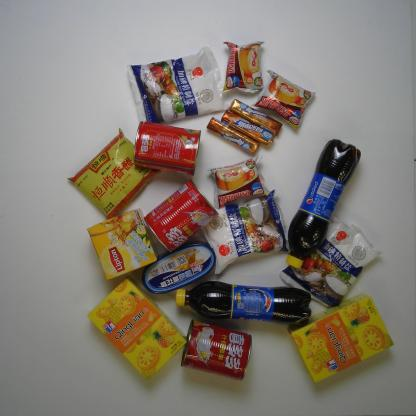Candy: (219, 107, 276, 147), (204, 116, 261, 156), (228, 97, 284, 137)
Canned Food: (142, 176, 222, 255), (177, 316, 256, 386), (139, 238, 218, 298), (130, 117, 202, 177)
Dessert: (84, 274, 190, 384), (285, 291, 397, 387), (249, 68, 320, 132), (204, 152, 272, 210), (219, 38, 267, 95)
Drink: (283, 136, 364, 270), (171, 276, 315, 332)
Instant Drink: (84, 206, 160, 284)
Seasoner: (278, 212, 385, 311), (64, 126, 164, 222), (124, 42, 232, 126), (199, 187, 291, 276)
